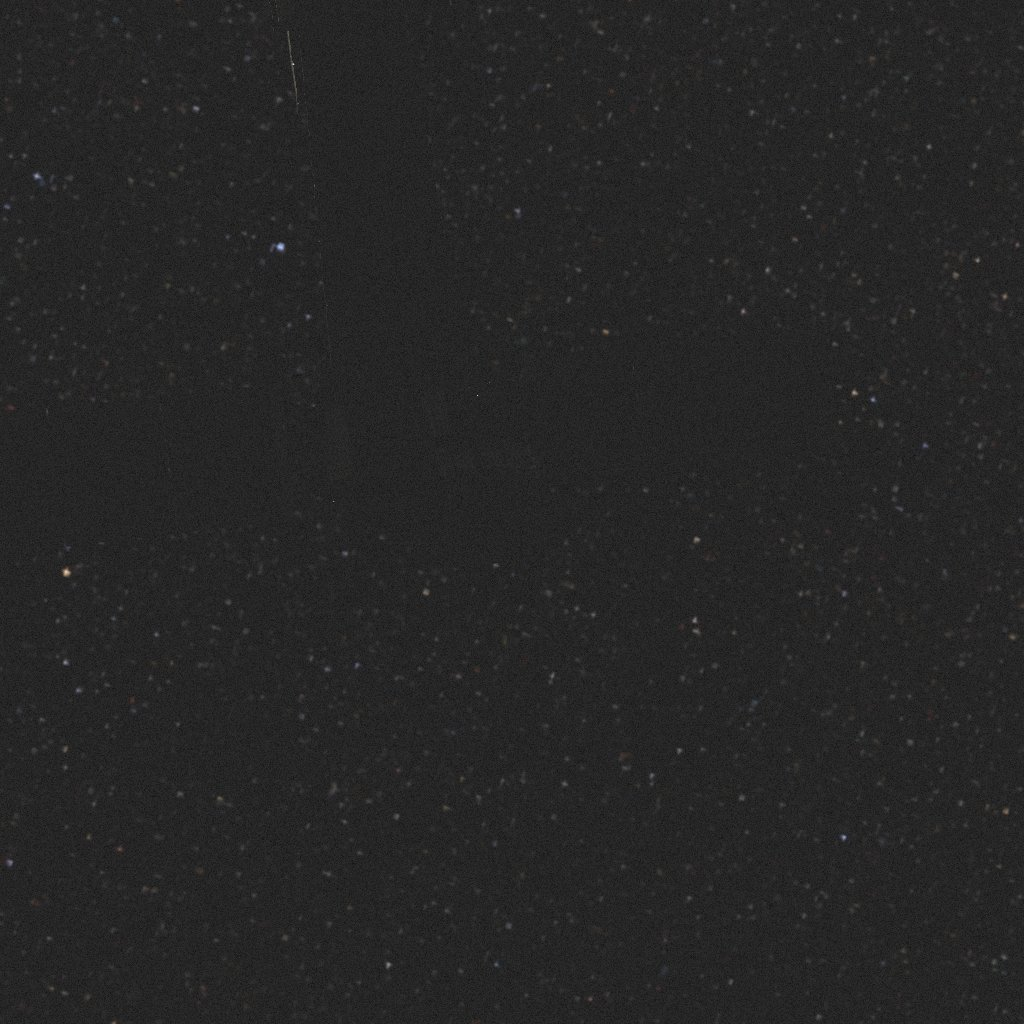xmm_newton: (22, 28, 838, 559)
